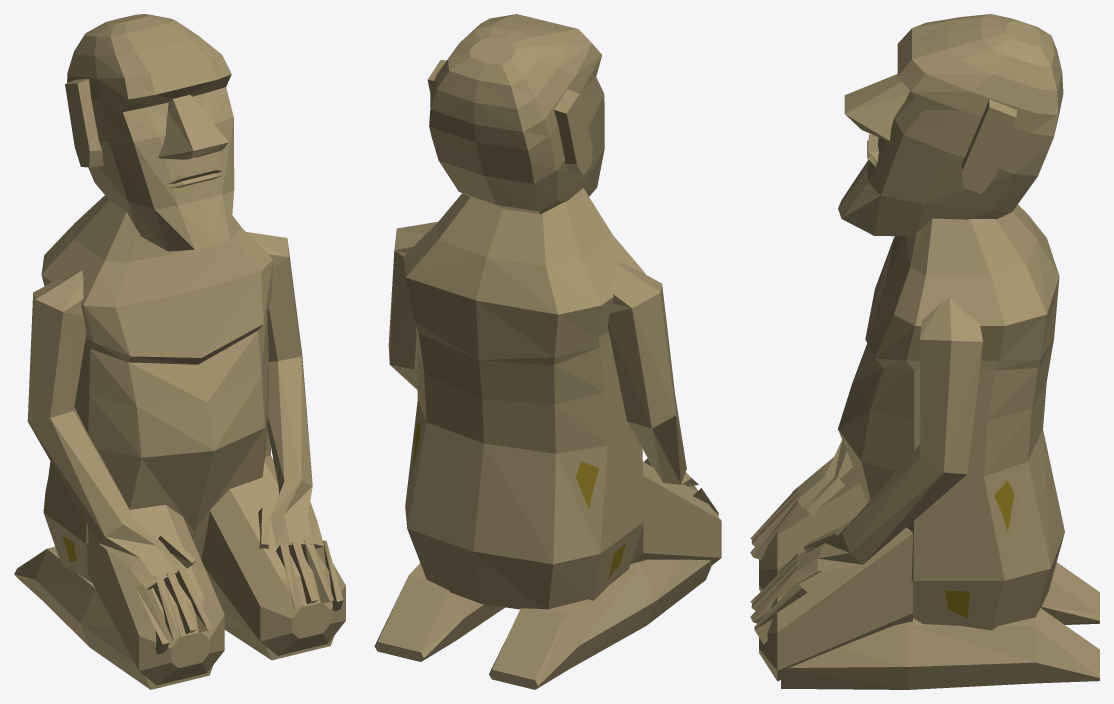
File: tukuturi-kneeling-moai-fad7ef.glb
The picture shows the model from 3 angles, left to right: view 1: azimuth 30°, elevation 25°; view 2: azimuth 150°, elevation 25°; view 3: azimuth 270°, elevation 25°; orthographic projection. The views are drawn at different scales.
Visible parts, largest first — view 1: tukuturi-stone; view 2: tukuturi-stone; view 3: tukuturi-stone.
Boxes of the visible parts, x1,y1,x2,y2 form: tukuturi-stone: [14, 14, 345, 689]; tukuturi-stone: [374, 14, 721, 689]; tukuturi-stone: [750, 14, 1099, 689].
Size of the model in its own units: 1.86 by 3.7 by 1.91.
